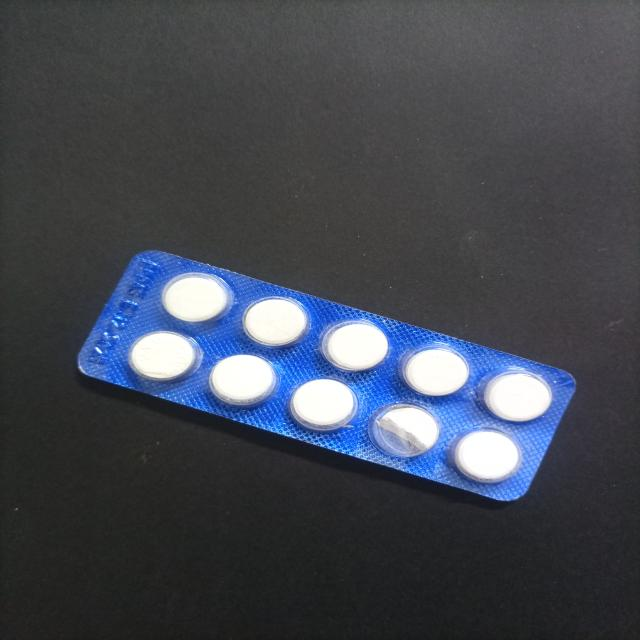defect: (366, 400, 444, 460)
